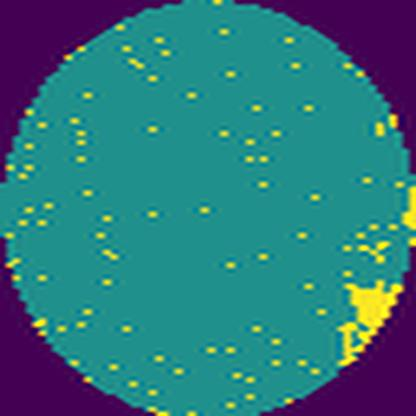Edge-Loc: (335, 276, 411, 366), (400, 182, 416, 246)
